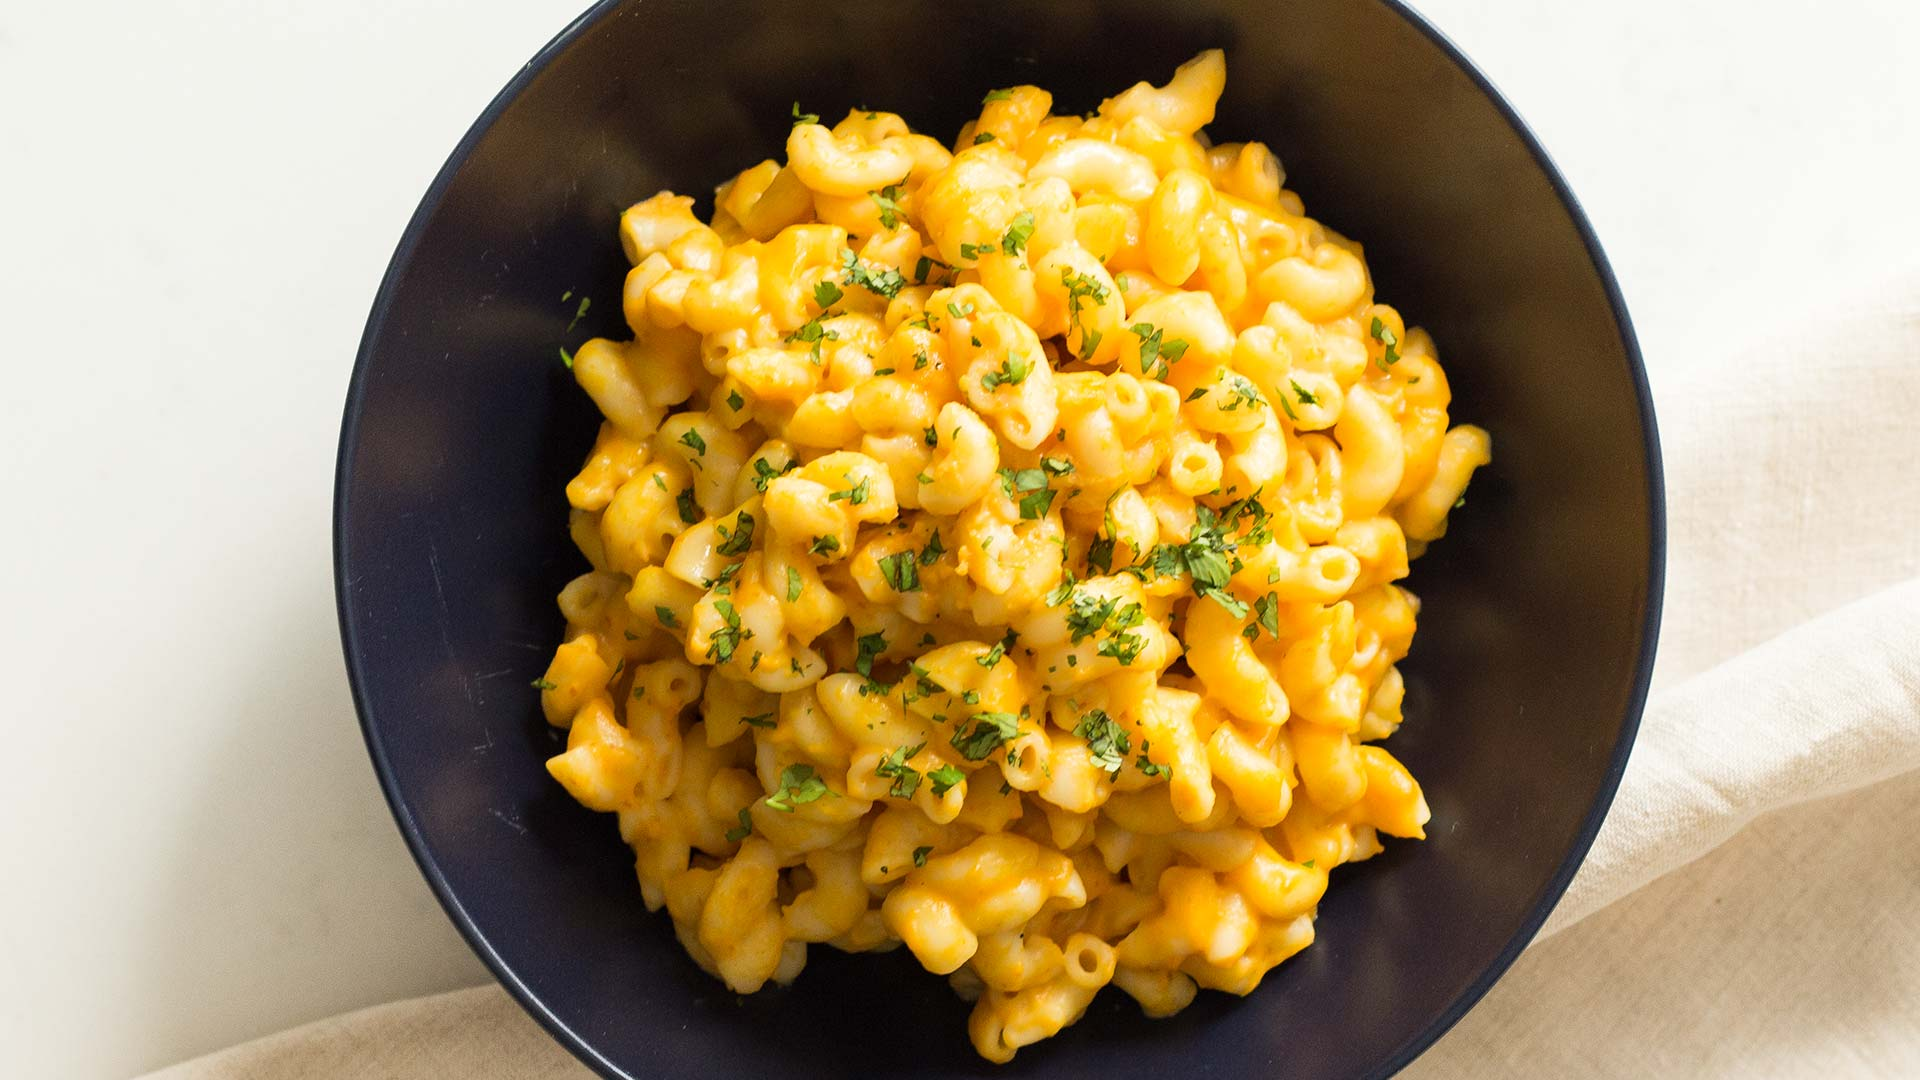macncheese: (538, 88, 1629, 1015)
